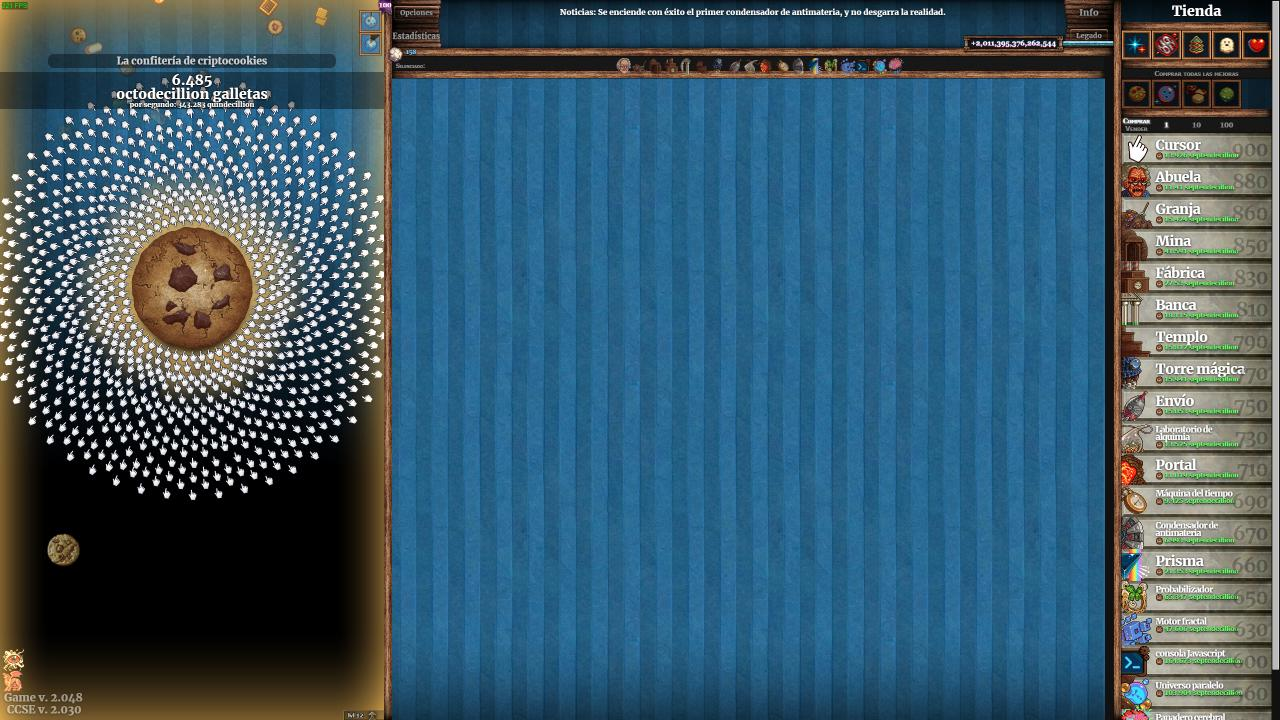GoldenCookie: (46, 532, 82, 568)
